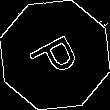P_NE: (24, 27, 86, 83)
